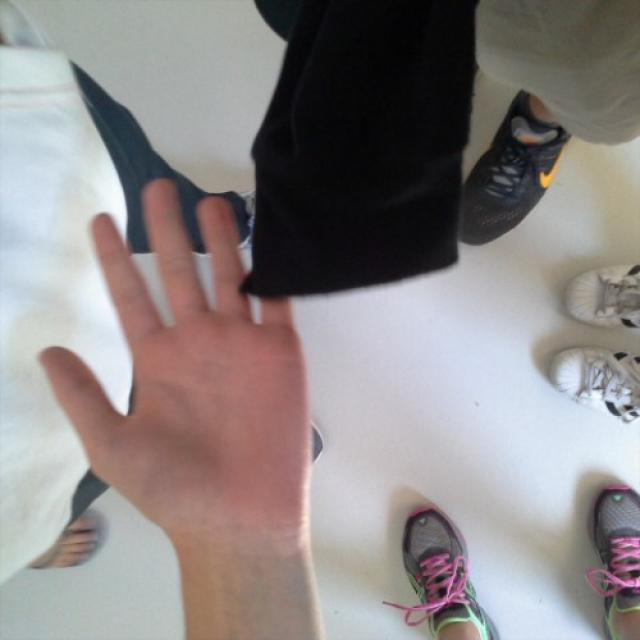paper: (40, 177, 308, 539)
